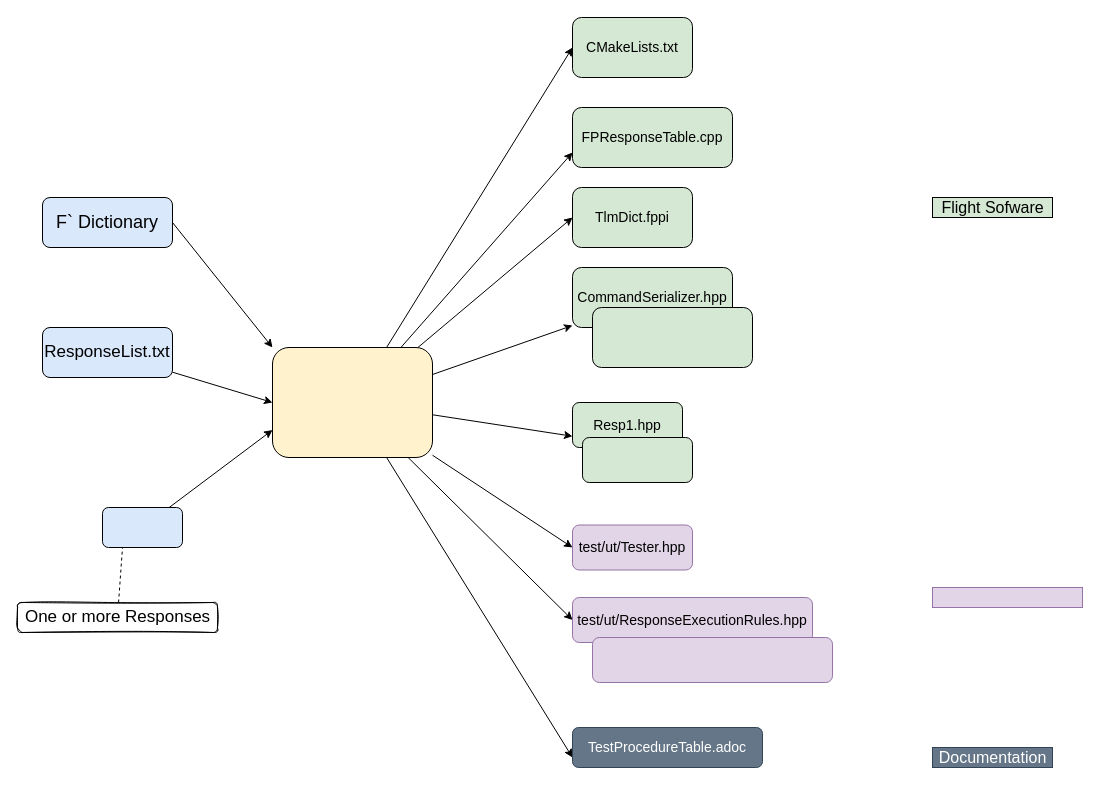
Image size: 1100x785. Some labels were removed from this diagram. The shapes that lost their labels are listed below. From the top down, each one's centre as x and y in pixels, then its label:
point (672, 337): CommandSerializer.cpp
point (352, 402): FP Autocoder
point (637, 459): Resp1.cpp
point (142, 527): Resp1.txt
point (1007, 597): Unit Test Software
point (712, 659): test/ut/ResponseExecutionRules.cpp
